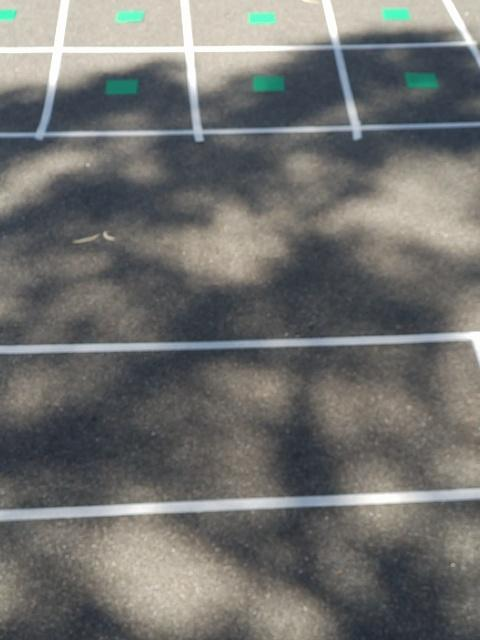weed: (104, 78, 139, 97), (252, 74, 287, 93), (403, 72, 440, 89), (114, 8, 146, 24), (381, 5, 411, 21), (247, 10, 276, 26), (0, 7, 17, 21)
